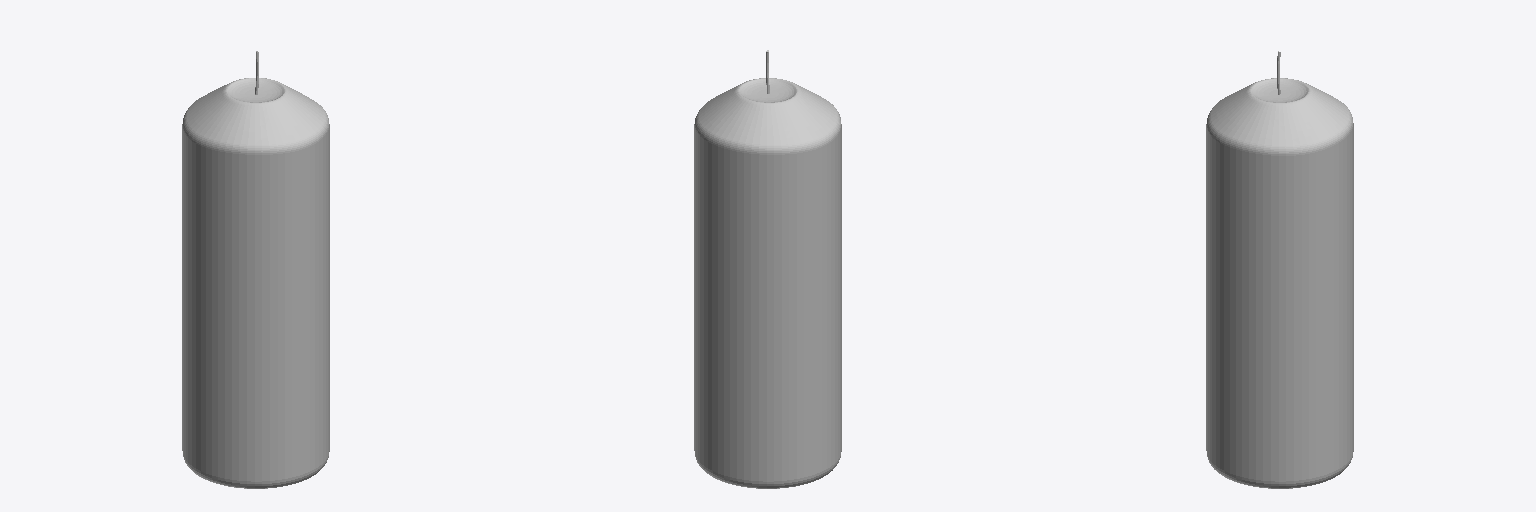
The model's file is candle.obj.
3 renders of one model, left to right at view 1: azimuth 30°, elevation 25°; view 2: azimuth 150°, elevation 25°; view 3: azimuth 270°, elevation 25°, orthographic.
Parts seen in each view (by area): view 1: polySurface3 polySurface2; view 2: polySurface3 polySurface2; view 3: polySurface3 polySurface2.
Boxes of the visible parts, x1,y1,x2,y2 form: polySurface3 polySurface2: [182, 78, 329, 488]; polySurface3 polySurface2: [694, 78, 841, 488]; polySurface3 polySurface2: [1206, 78, 1353, 488].
Bounding box in the file's own units: 0.2508 × 0.7709 × 0.2508.